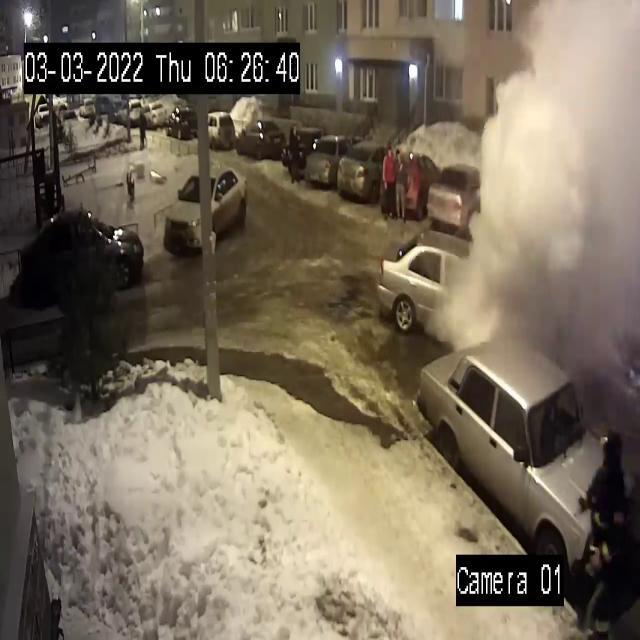Smoke: (439, 0, 640, 403)
